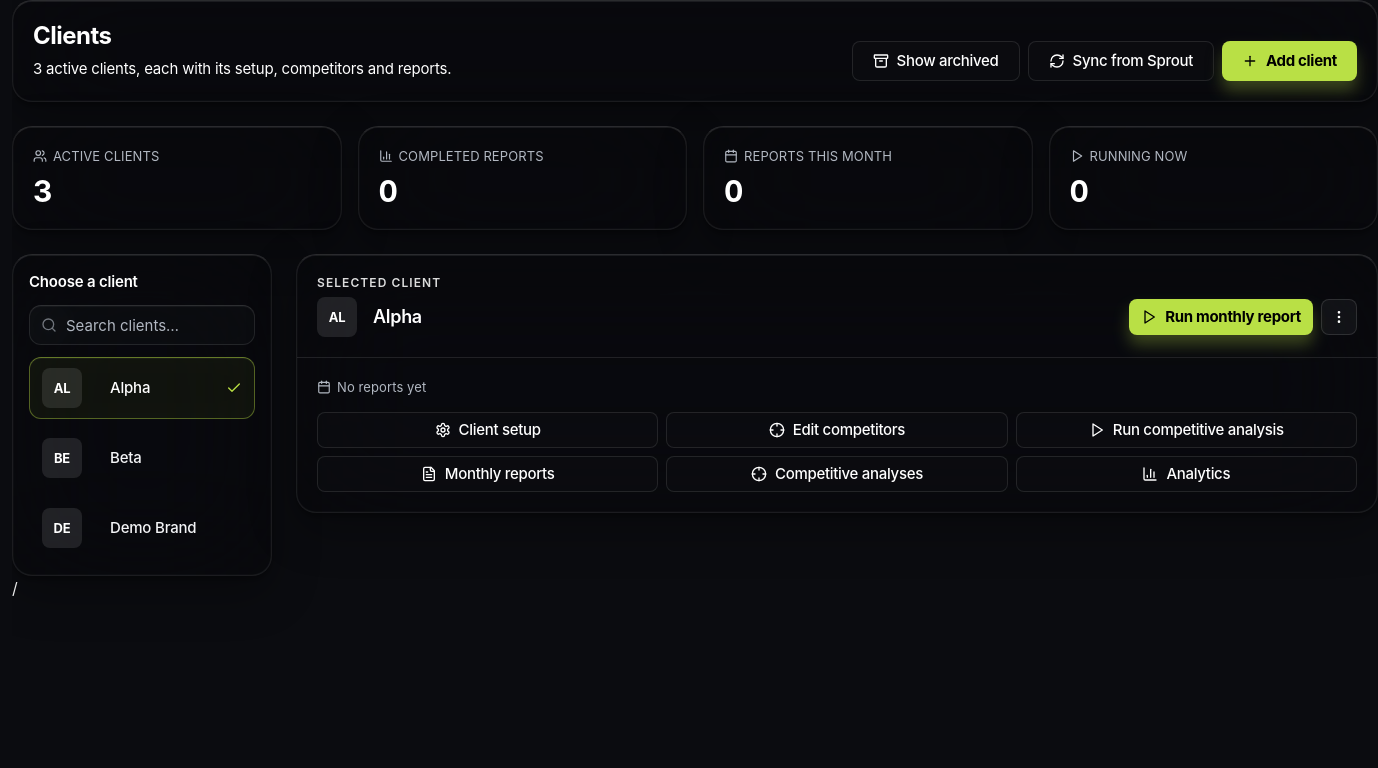
Test: dashboard: archived directory cannot launch reports and permissions still apply
Click the button "Show archived": coordinates (936, 61) [852,41,1020,81]
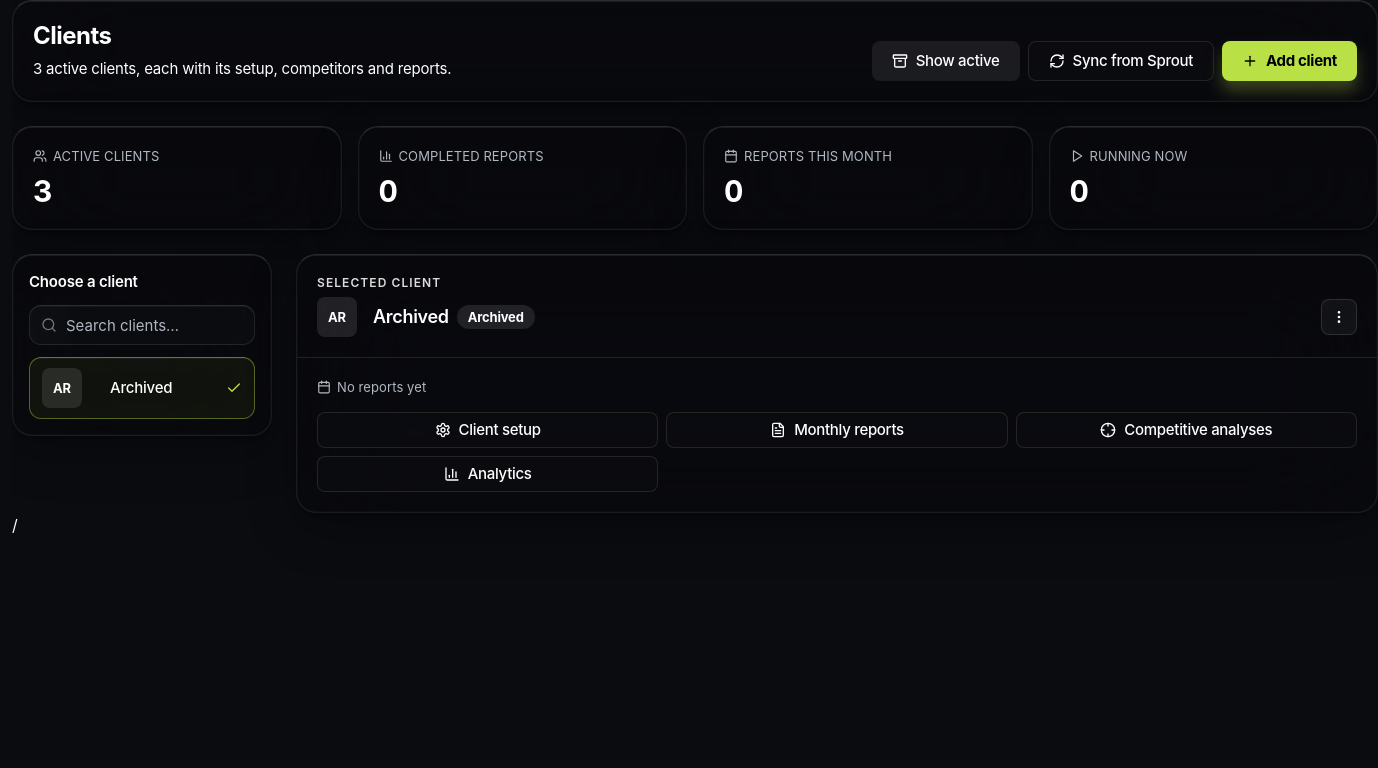
expect the button "Run competitive analysis" is gone: met
